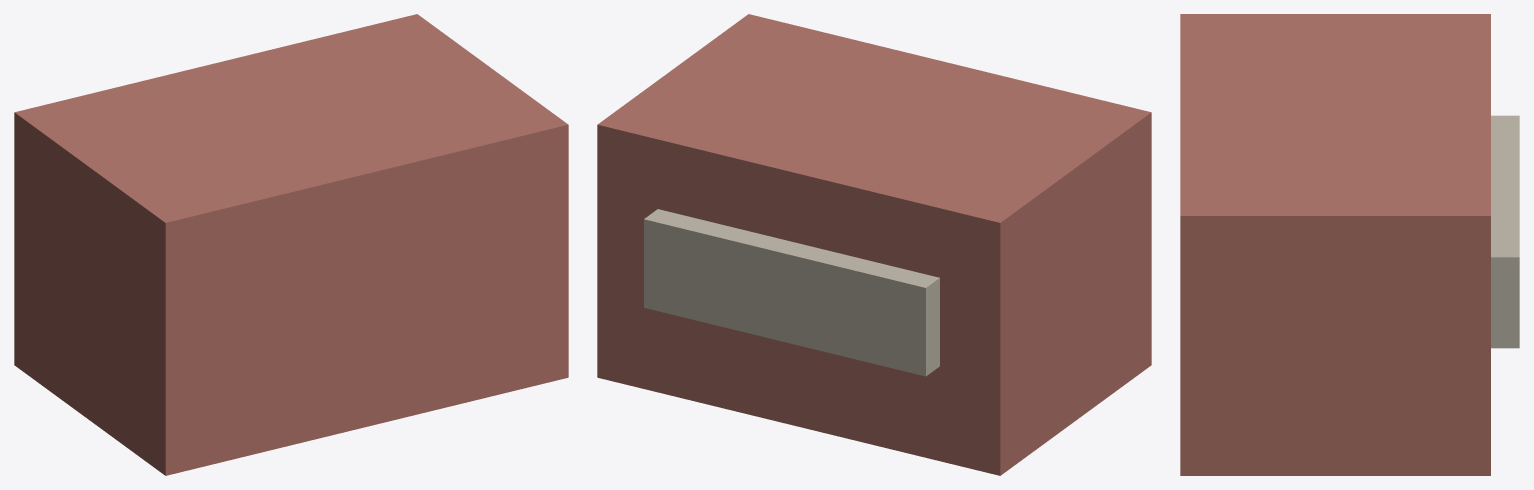
The model's file is ammo_shells.glb.
The picture shows the model from 3 angles, left to right: view 1: azimuth 30°, elevation 25°; view 2: azimuth 150°, elevation 25°; view 3: azimuth 270°, elevation 25°; orthographic projection. The views are drawn at different scales.
Visible parts, largest first — view 1: body; view 2: body; view 3: body.
Part boxes in pixels (x1,y1,x2,y2): body: (14, 14, 568, 475); body: (597, 14, 1151, 475); body: (1180, 14, 1519, 475).
Bounding box in the file's own units: 0.2 × 0.12 × 0.142.
